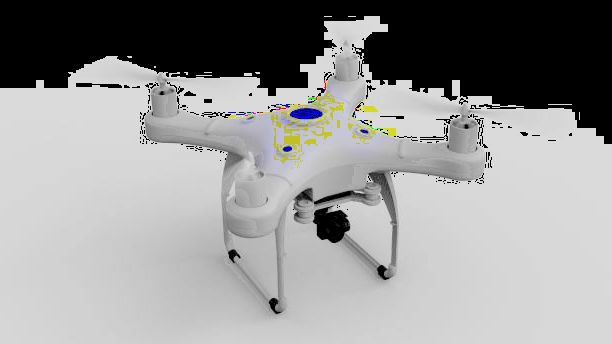Drone: (105, 31, 511, 325)
